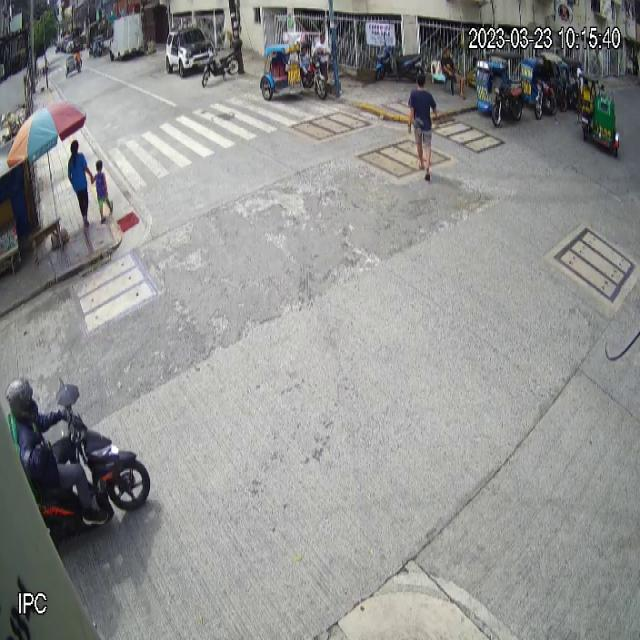Tricycle: (260, 31, 328, 102), (578, 72, 620, 159), (476, 51, 523, 128)
